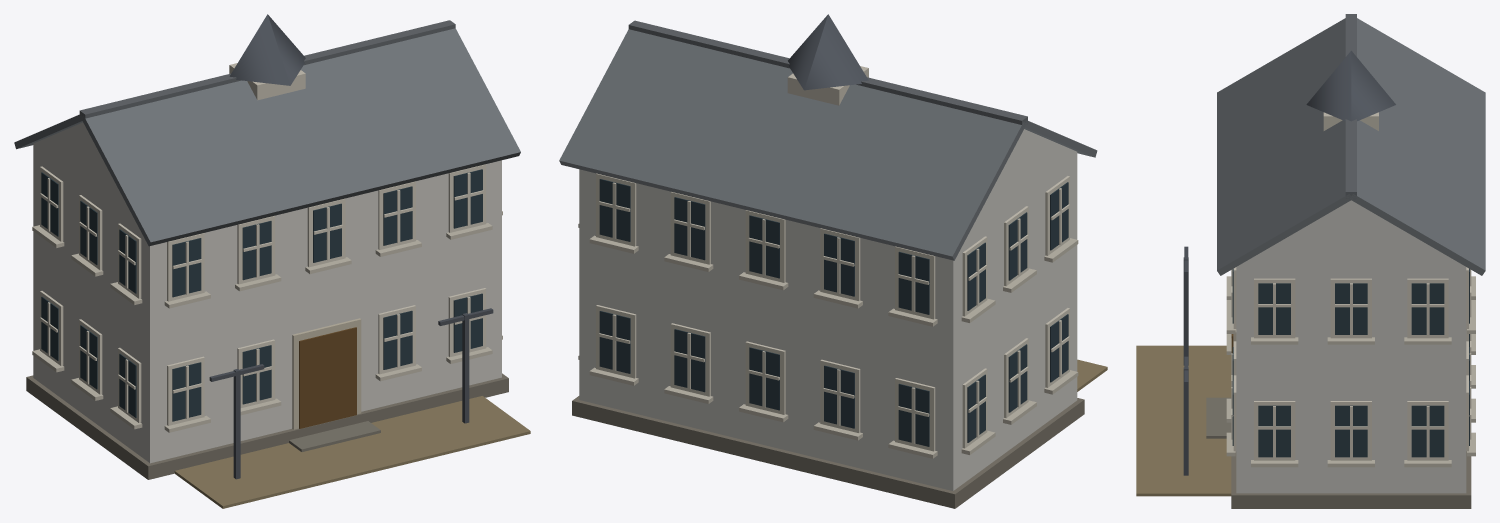
The model's file is procedural_public_school@6.glb.
3 views of the same model, side by side, from view 1: azimuth 30°, elevation 25°; view 2: azimuth 150°, elevation 25°; view 3: azimuth 270°, elevation 25° (orthographic). The views are drawn at different scales.
Parts seen in each view (by area): view 1: part_0; view 2: part_0; view 3: part_0.
Boxes of the visible parts, x1,y1,x2,y2 form: part_0: [14, 14, 530, 508]; part_0: [559, 14, 1107, 508]; part_0: [1136, 14, 1485, 508].
Bounding box in the file's own units: 8.42 × 8.2 × 6.99.
